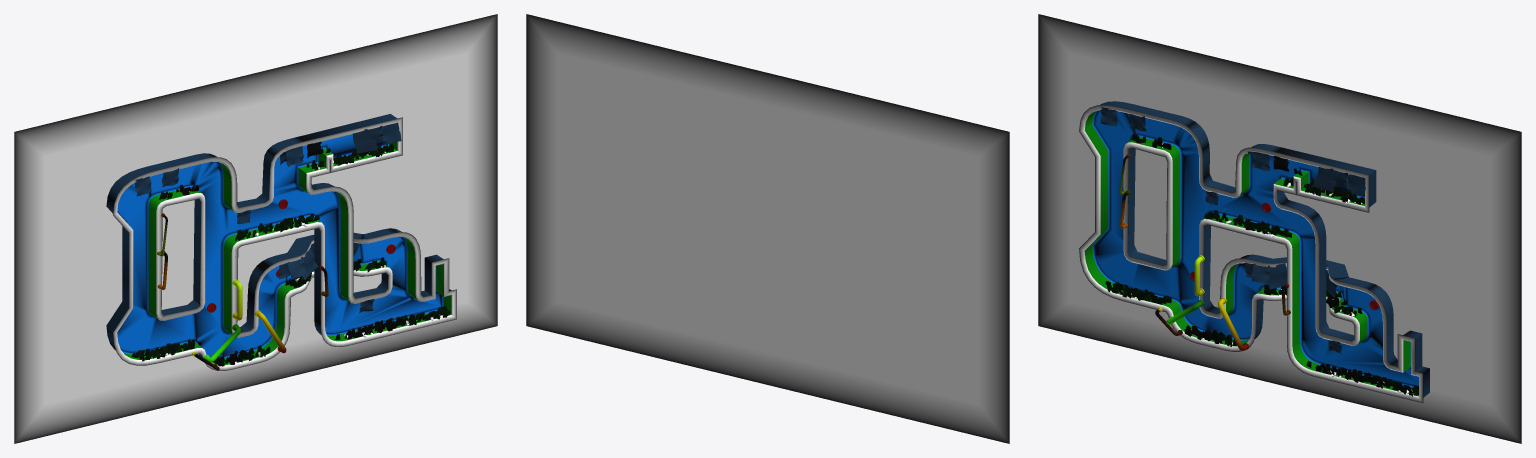
The picture shows the model from 3 angles, left to right: view 1: azimuth 30°, elevation 25°; view 2: azimuth 150°, elevation 25°; view 3: azimuth 330°, elevation 25°; orthographic projection.
Parts seen in each view (by area): view 1: clean_up_correct_scale; view 2: clean_up_correct_scale; view 3: clean_up_correct_scale.
Boxes of the visible parts, x1,y1,x2,y2 form: clean_up_correct_scale: (14,14,497,443); clean_up_correct_scale: (526,14,1009,443); clean_up_correct_scale: (1038,14,1521,443).
Bounding box in the file's own units: 7913 × 4884 × 986.
